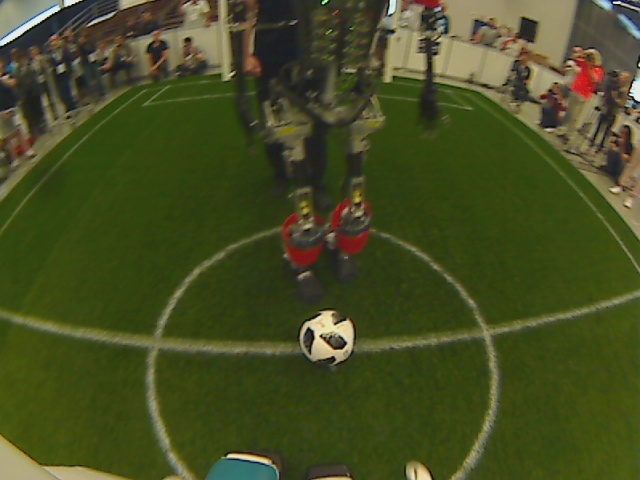ball: (297, 307, 357, 368)
